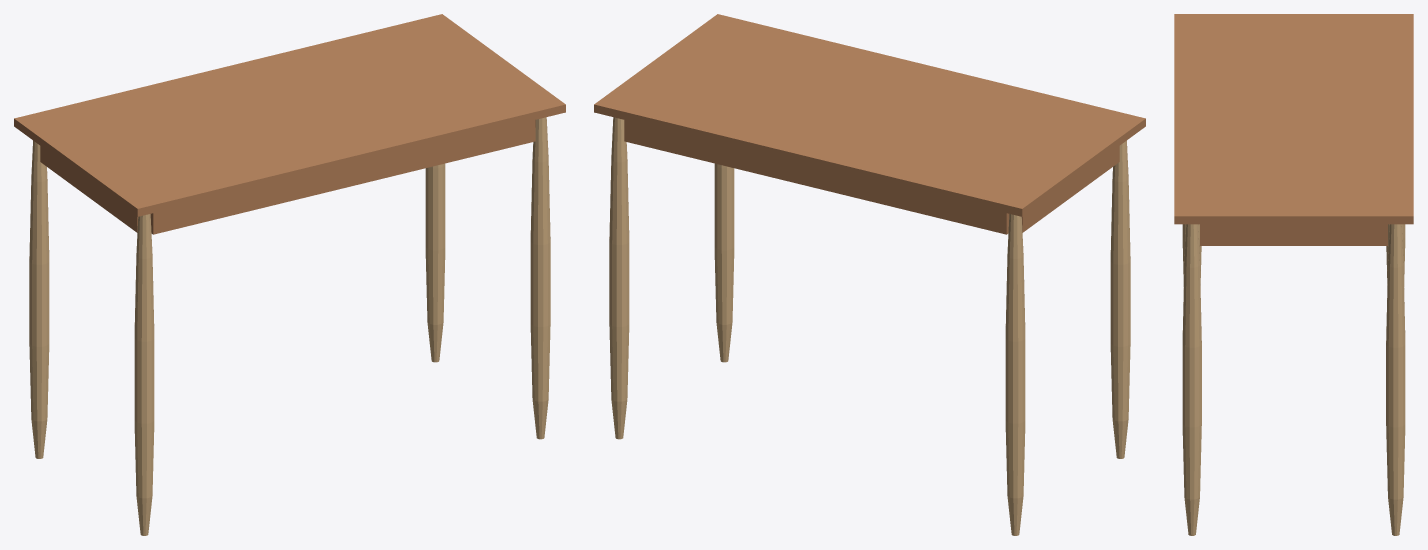
Rendered from CAL-SDK-std.glb.
The picture shows the model from 3 angles, left to right: view 1: azimuth 30°, elevation 25°; view 2: azimuth 150°, elevation 25°; view 3: azimuth 270°, elevation 25°; orthographic projection. The views are drawn at different scales.
Parts seen in each view (by area): view 1: top:pbr, apron-f:pbr, leg-fl:pbr, leg-fr:pbr, leg-bl:pbr, leg-br:pbr, apron-l:pbr; view 2: top:pbr, apron-b:pbr, leg-bl:pbr, leg-br:pbr, leg-fl:pbr, leg-fr:pbr, apron-l:pbr; view 3: top:pbr, leg-fr:pbr, leg-br:pbr, apron-r:pbr.
Part boxes in pixels (x1,y1,x2,y2): top:pbr: [14, 14, 565, 216]; apron-f:pbr: [150, 120, 535, 234]; leg-fl:pbr: [134, 214, 154, 535]; leg-fr:pbr: [530, 117, 550, 439]; leg-bl:pbr: [29, 140, 49, 458]; leg-br:pbr: [425, 163, 445, 362]; apron-l:pbr: [40, 146, 138, 232]; top:pbr: [594, 14, 1145, 216]; apron-b:pbr: [624, 120, 1009, 234]; leg-bl:pbr: [1005, 214, 1025, 535]; leg-br:pbr: [609, 117, 629, 439]; leg-fl:pbr: [1110, 140, 1130, 458]; leg-fr:pbr: [714, 163, 734, 362]; apron-l:pbr: [1021, 146, 1119, 232]; top:pbr: [1174, 14, 1413, 224]; leg-fr:pbr: [1182, 224, 1201, 535]; leg-br:pbr: [1386, 224, 1405, 535]; apron-r:pbr: [1200, 224, 1387, 245].
Size of the model in its own units: 1.4 by 1.05 by 0.7.
